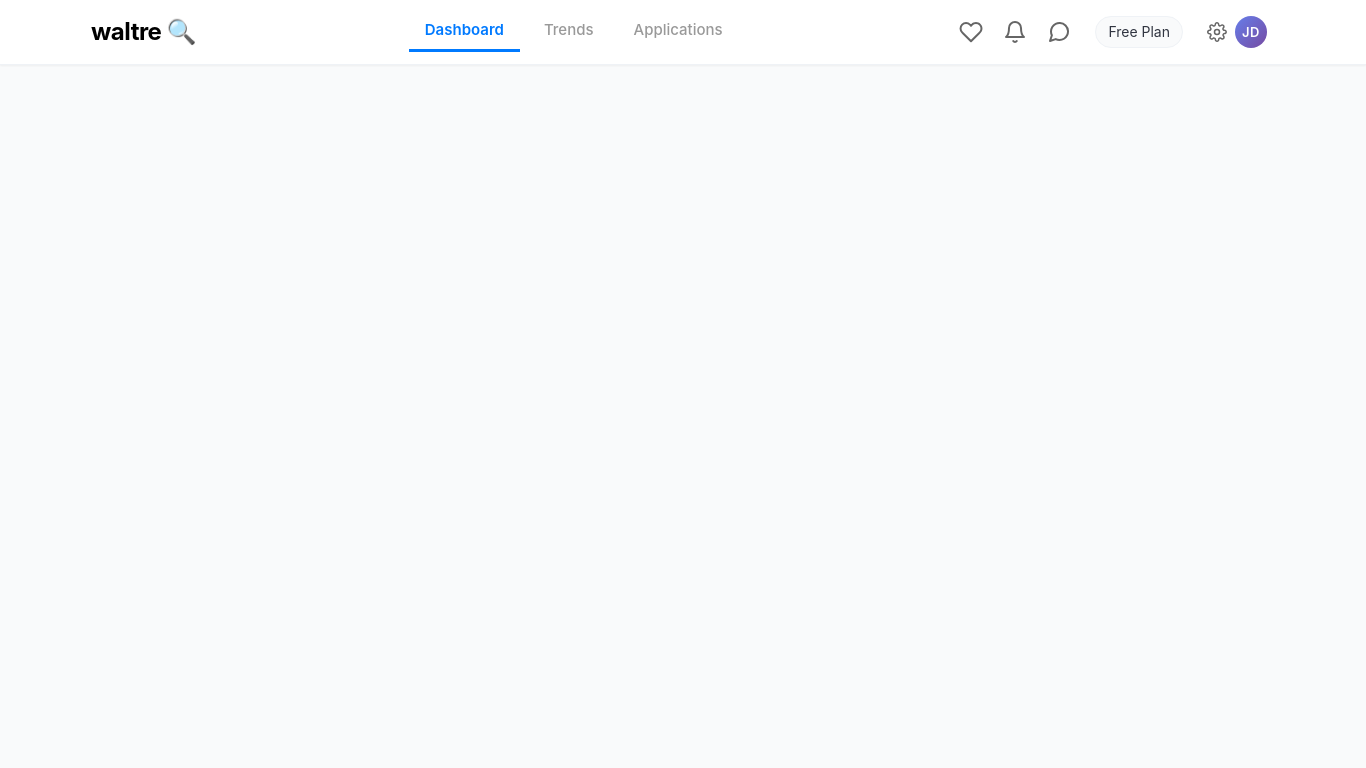
Scenario: TopNavigation Component › opens and closes profile dropdown on click
The width and height of the screenshot is (1366, 768).
Expected: the text "Go to Profile" is not shown
Click to open dropdown
Click the button with aria-label "profile menu".
click(1237, 32)  # box [1199,10,1275,54]
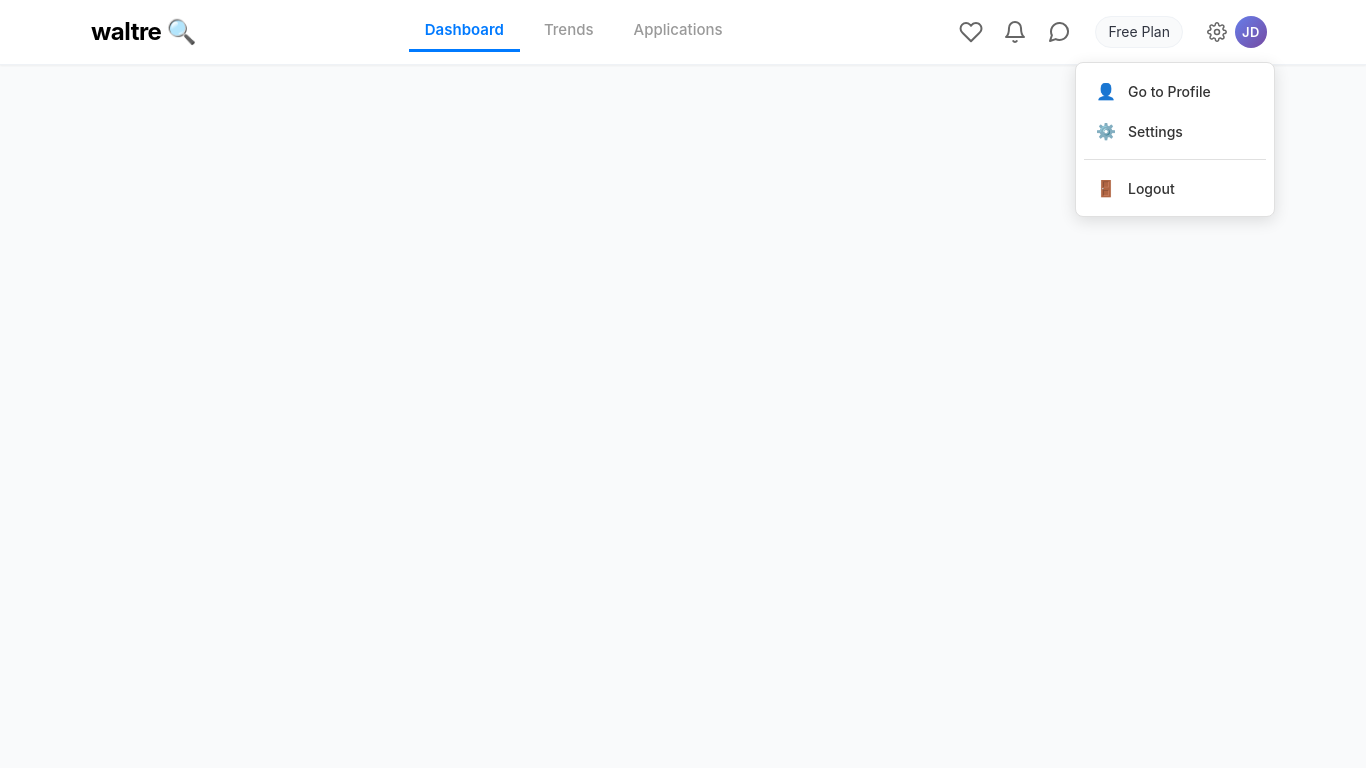
Expected: the menu item "👤 Go to Profile" is shown, [1084,71,1266,111]
Expected: the menu item "⚙️ Settings" is shown, [1084,111,1266,151]
Expected: the menu item "🚪 Logout" is shown, [1084,168,1266,208]
Click outside to close dropdown
Press the mouse on the element that starts with "waltre 🔍" at (683, 384), box [0,0,1365,767]
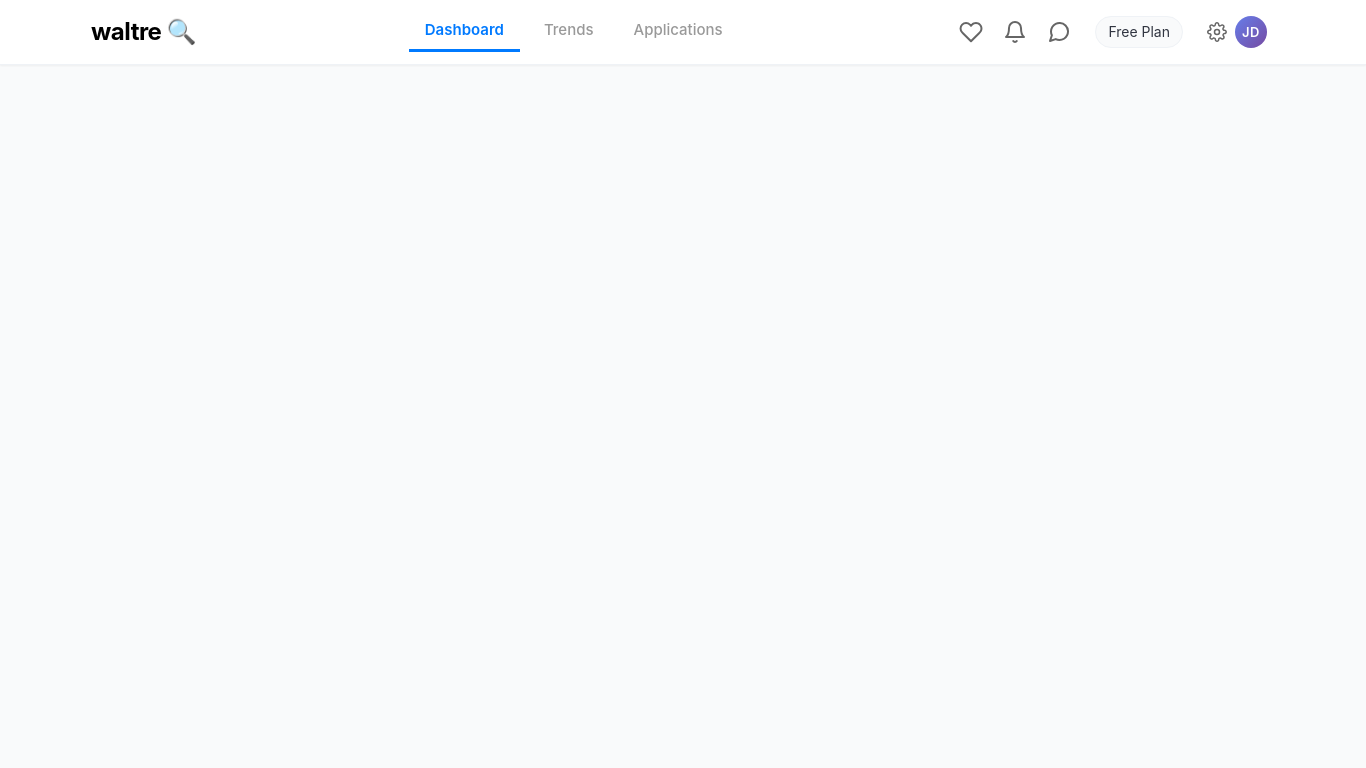
Expected: the menu item "Go to Profile" is gone
